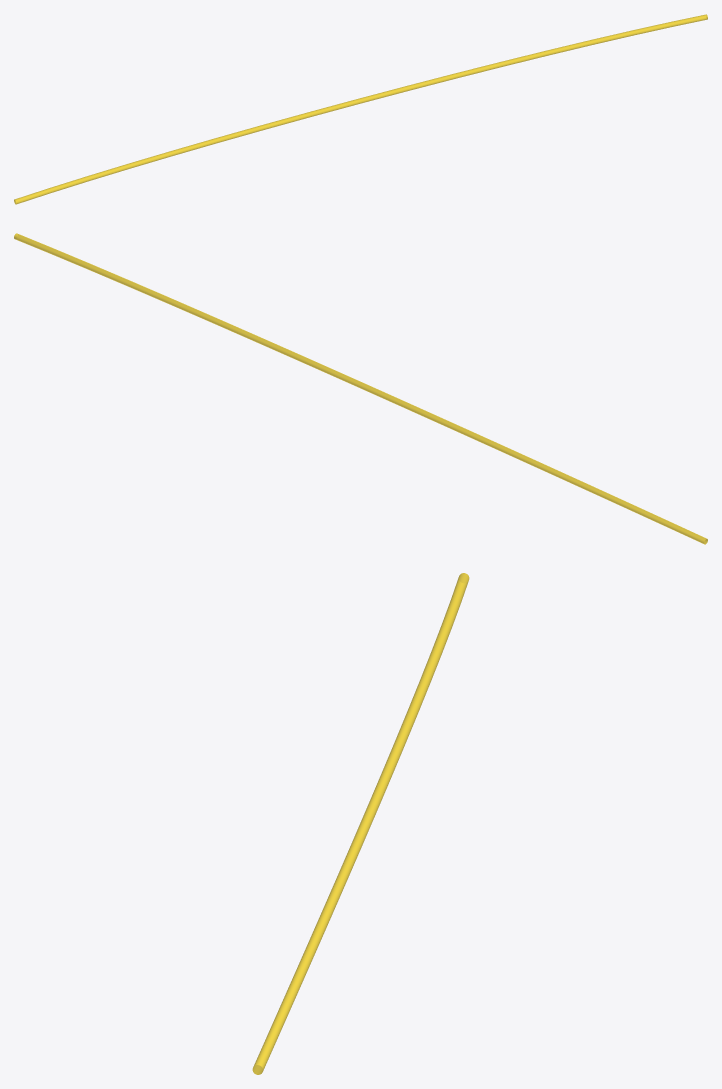
The model's file is Event_27938768_track_21.fbx.
3 views of the same model, one above another, from view 1: azimuth 30°, elevation 25°; view 2: azimuth 150°, elevation 25°; view 3: azimuth 270°, elevation 25° (orthographic). The views are drawn at different scales.
Visible parts, largest first — view 1: Model; view 2: Model; view 3: Model.
Part boxes in pixels (x1=…): Model: x1=14, y1=14, x2=707, y2=204; Model: x1=14, y1=233, x2=707, y2=544; Model: x1=252, y1=573, x2=469, y2=1074.
Bounding box in the file's own units: 5.51 × 0.5868 × 0.8075.
